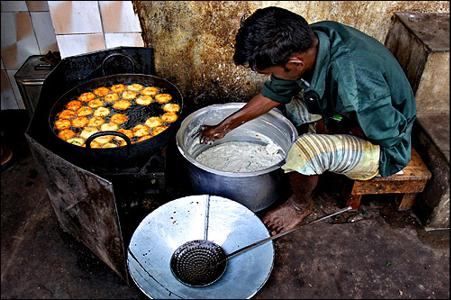person: (196, 7, 415, 232)
